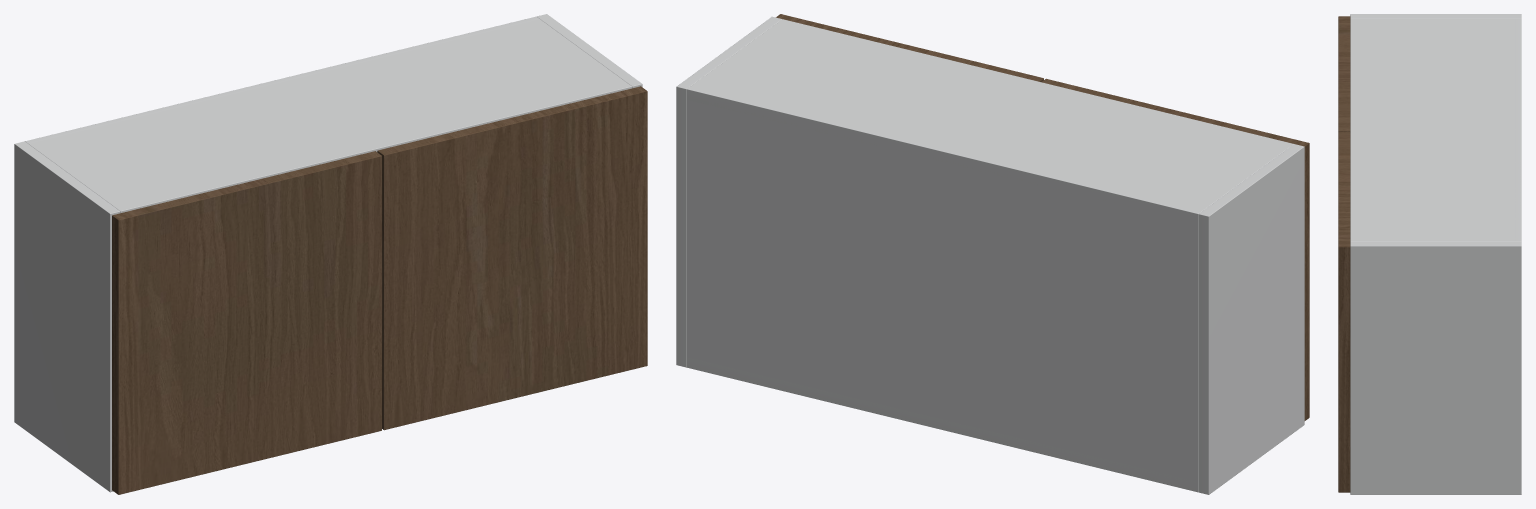
File: oppein-ply-mso-w3618.glb
3 renders of one model, left to right at view 1: azimuth 30°, elevation 25°; view 2: azimuth 150°, elevation 25°; view 3: azimuth 270°, elevation 25°, orthographic. The views are drawn at different scales.
Visible parts, largest first — view 1: Door, Door.001, Cabinet top, Cabinet side, Cabinet back, Cabinet side.001; view 2: Cabinet back, Cabinet top, Cabinet side, Cabinet bottom, Cabinet side.001, Door, Door.001; view 3: Cabinet side.001, Cabinet top, Door.001, Cabinet back, Door, Cabinet side.
Boxes of the visible parts, x1=… form: Door: x1=112, y1=151, x2=381, y2=494; Door.001: x1=377, y1=86, x2=647, y2=430; Cabinet top: x1=29, y1=19, x2=631, y2=213; Cabinet side: x1=14, y1=141, x2=120, y2=492; Cabinet back: x1=25, y1=16, x2=539, y2=143; Cabinet side.001: x1=537, y1=14, x2=642, y2=88; Cabinet back: x1=687, y1=86, x2=1201, y2=492; Cabinet top: x1=687, y1=19, x2=1293, y2=221; Cabinet side: x1=1198, y1=144, x2=1304, y2=494; Cabinet bottom: x1=687, y1=357, x2=1198, y2=491; Cabinet side.001: x1=676, y1=16, x2=781, y2=367; Door: x1=1041, y1=78, x2=1309, y2=420; Door.001: x1=776, y1=14, x2=1043, y2=81; Cabinet side.001: x1=1350, y1=241, x2=1521, y2=494; Cabinet top: x1=1350, y1=18, x2=1521, y2=241; Door.001: x1=1338, y1=132, x2=1350, y2=492; Cabinet back: x1=1514, y1=18, x2=1521, y2=241; Door: x1=1338, y1=16, x2=1350, y2=131; Cabinet side: x1=1350, y1=14, x2=1521, y2=18.
Size of the model in its own units: 0.9144 by 0.4572 by 0.3048.
Materials: 2 (1 with a texture image).
